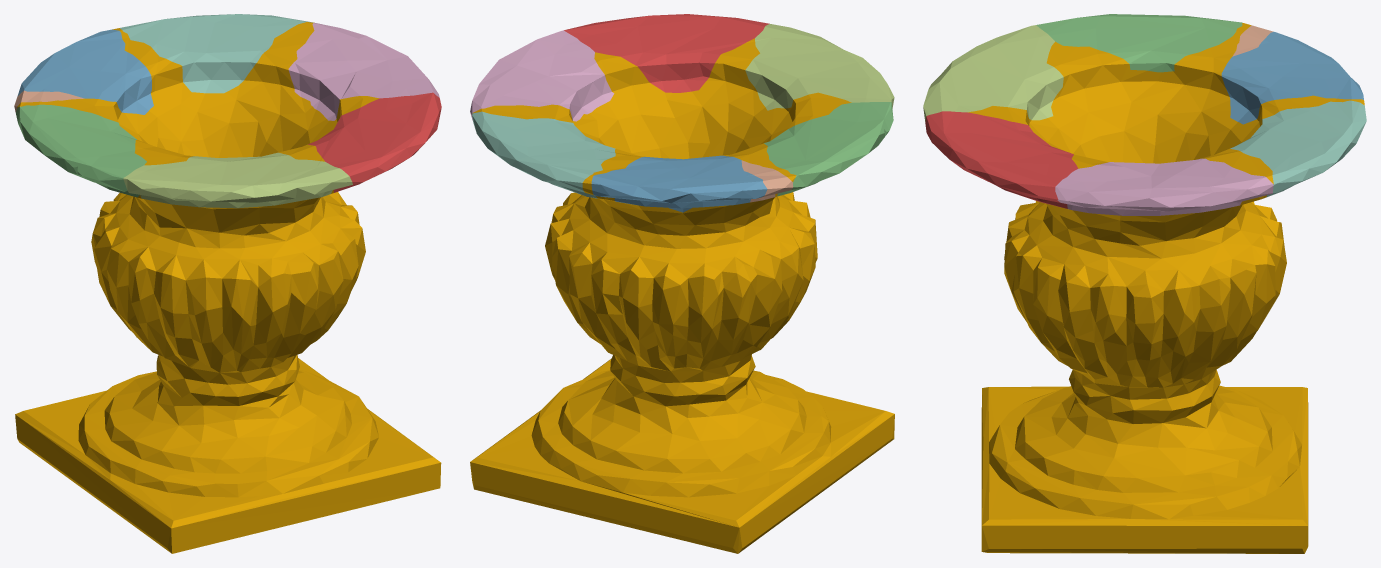
File: mode_15_8pcs.glb
The picture shows the model from 3 angles, left to right: view 1: azimuth 30°, elevation 25°; view 2: azimuth 150°, elevation 25°; view 3: azimuth 270°, elevation 25°; orthographic projection. The views are drawn at different scales.
Visible parts, largest first — view 1: piece_0.obj, piece_5.obj, piece_4.obj, piece_6.obj, piece_1.obj, piece_3.obj, piece_2.obj, piece_7.obj; view 2: piece_0.obj, piece_1.obj, piece_5.obj, piece_6.obj, piece_2.obj, piece_4.obj, piece_3.obj, piece_7.obj; view 3: piece_0.obj, piece_6.obj, piece_5.obj, piece_1.obj, piece_3.obj, piece_2.obj, piece_4.obj, piece_7.obj.
Boxes of the visible parts, <box> form: piece_0.obj: <box>15,22,441,553</box>; piece_5.obj: <box>123,152,352,208</box>; piece_4.obj: <box>120,14,312,93</box>; piece_6.obj: <box>288,23,439,120</box>; piece_1.obj: <box>308,92,441,192</box>; piece_3.obj: <box>16,104,146,197</box>; piece_2.obj: <box>17,29,153,114</box>; piece_7.obj: <box>14,90,84,112</box>; piece_0.obj: <box>470,38,894,553</box>; piece_1.obj: <box>564,14,769,92</box>; piece_5.obj: <box>745,24,894,110</box>; piece_6.obj: <box>470,30,614,121</box>; piece_2.obj: <box>591,155,767,212</box>; piece_4.obj: <box>472,111,615,198</box>; piece_3.obj: <box>764,102,893,196</box>; piece_7.obj: <box>741,160,793,202</box>; piece_0.obj: <box>968,23,1364,553</box>; piece_6.obj: <box>1055,158,1273,215</box>; piece_5.obj: <box>923,25,1063,121</box>; piece_1.obj: <box>925,111,1078,208</box>; piece_3.obj: <box>1036,14,1242,72</box>; piece_2.obj: <box>1221,32,1363,124</box>; piece_4.obj: <box>1230,100,1366,196</box>; piece_7.obj: <box>1232,25,1273,56</box>.
Bounding box in the file's own units: 1 × 0.9482 × 0.997.
